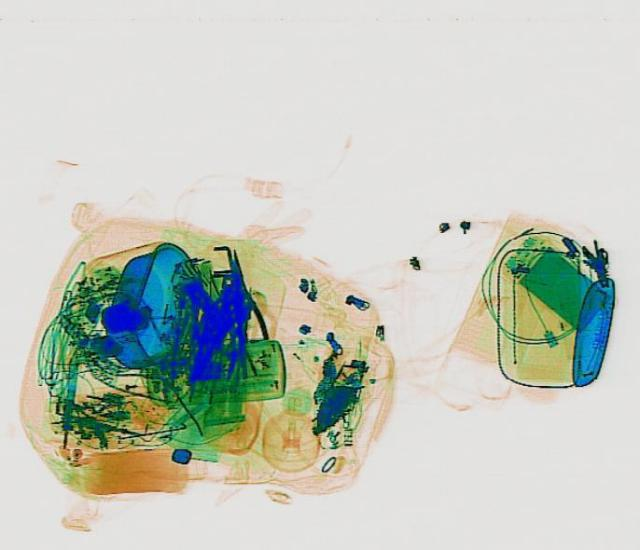Pliers: (210, 246, 270, 344)
